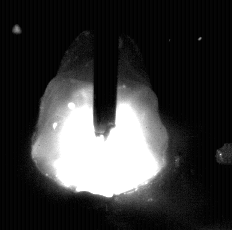arame: (94, 0, 118, 139)
poca: (31, 0, 168, 230)
